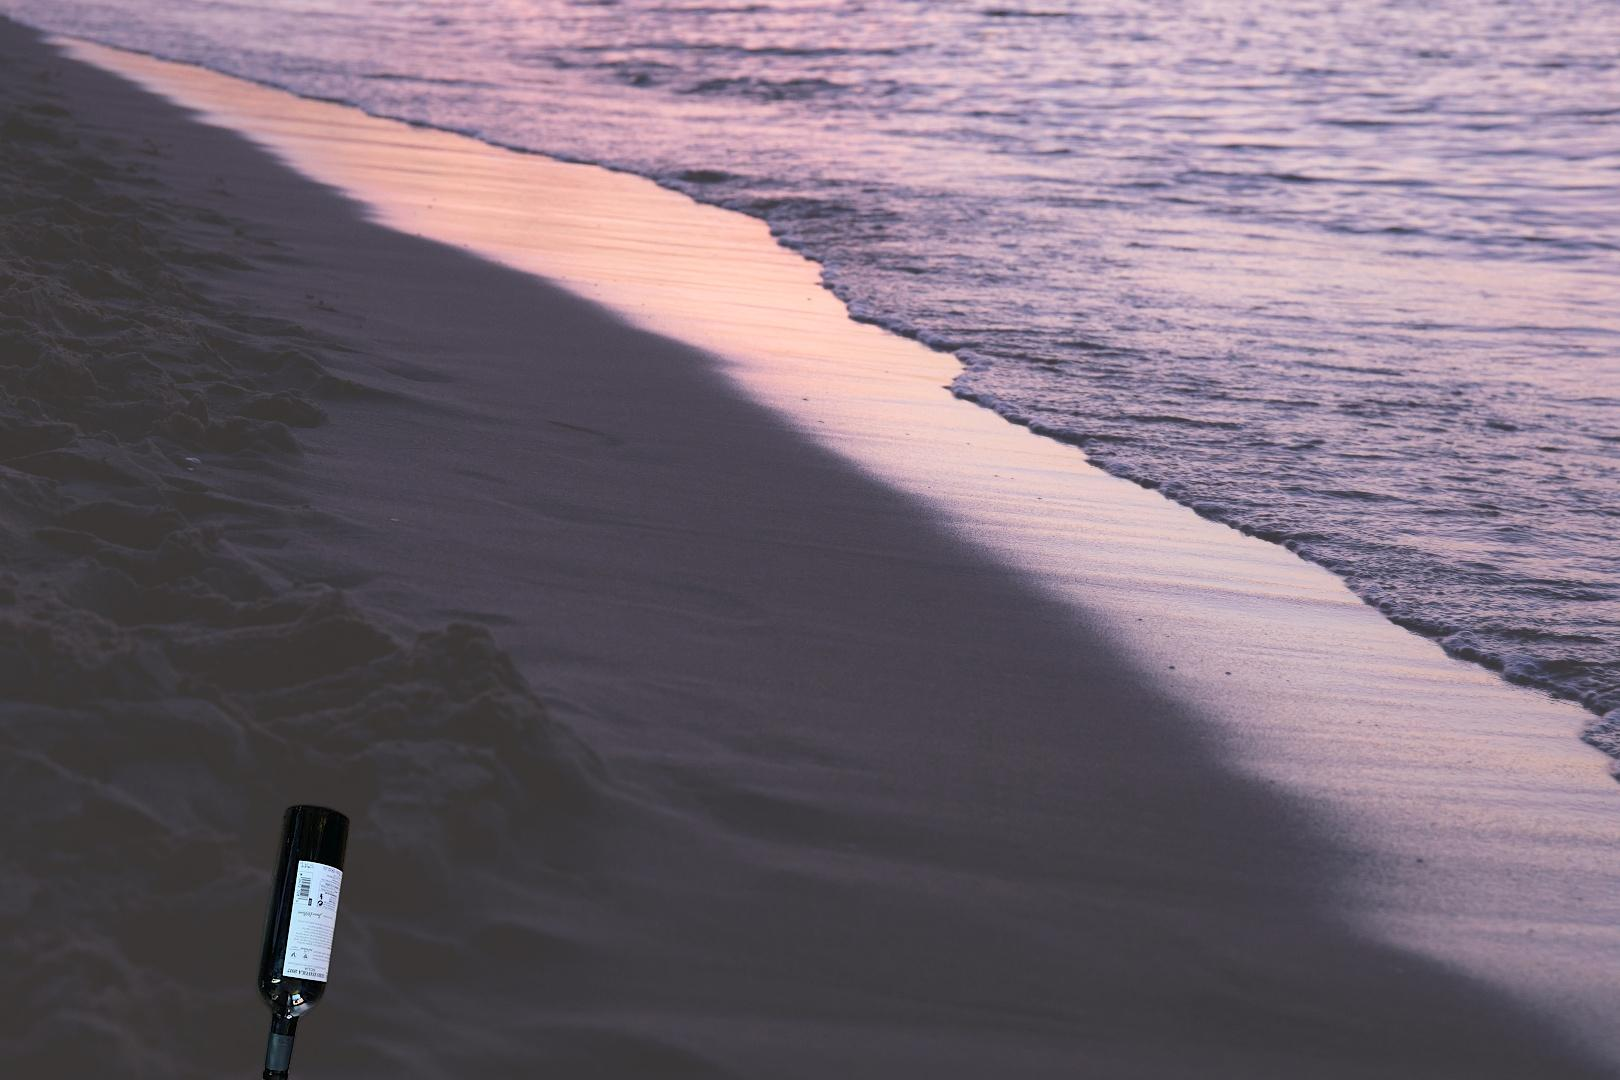glass: (253, 798, 353, 1080)
